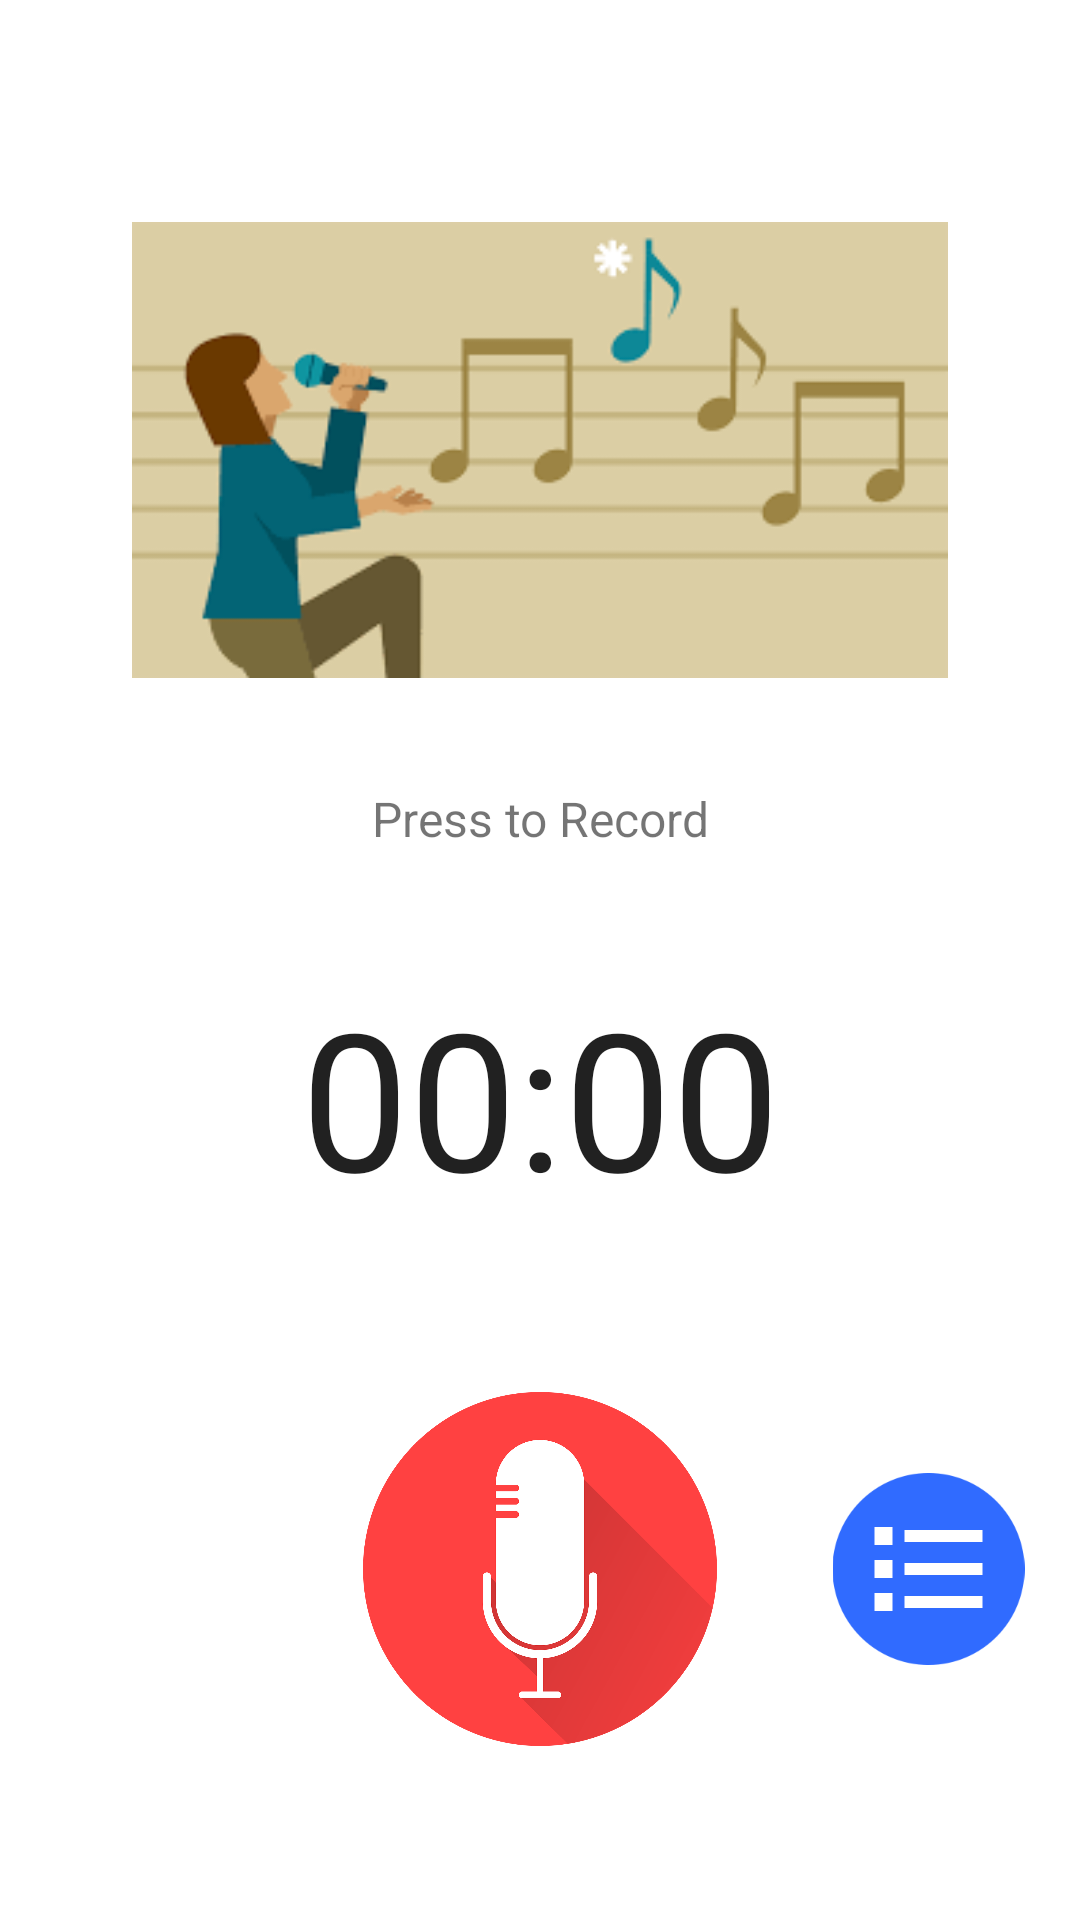

Point at icon controls on the screen. Image size 1080x1920, points as point (x, y).
listicon: point (929, 1569)
record: point (540, 1569)
